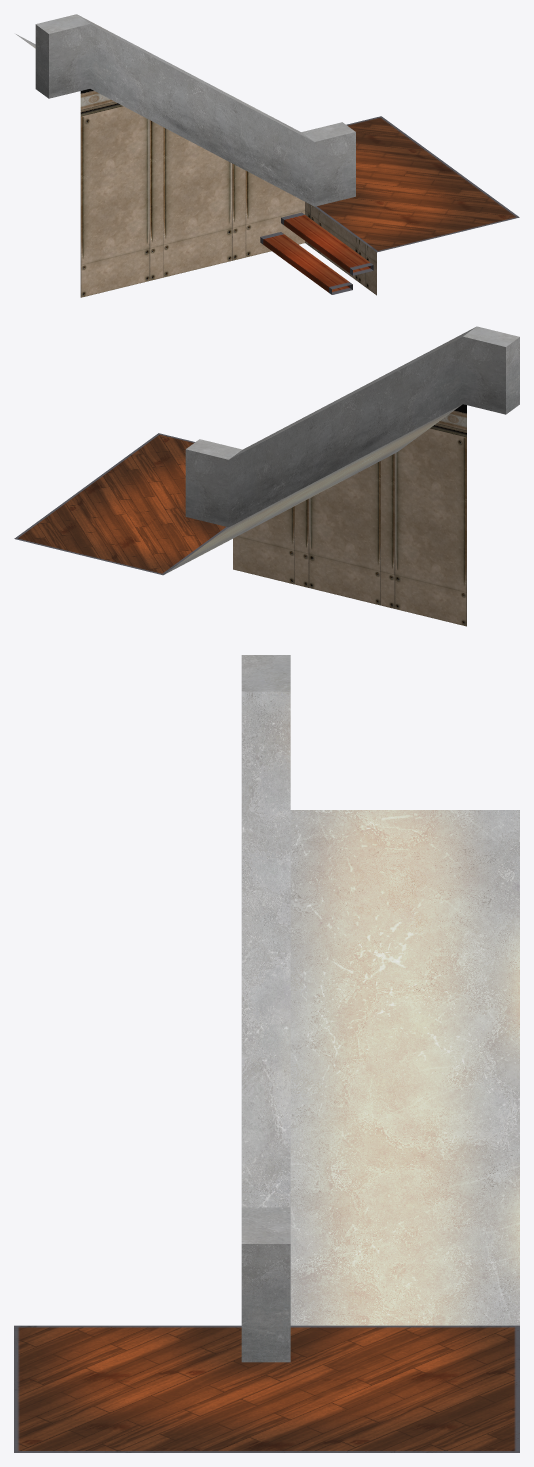
File: Stairs_02.glb
3 views of the same model, one above another, from view 1: azimuth 30°, elevation 25°; view 2: azimuth 150°, elevation 25°; view 3: azimuth 270°, elevation 25° (orthographic). The views are drawn at different scales.
Parts seen in each view (by area): view 1: Stairs_01_Floor, Stairs_01_Railing; view 2: Stairs_01_Floor, Stairs_01_Railing; view 3: Stairs_01_Floor, Stairs_01_Railing.
Part boxes in pixels (bbox=[...]): Stairs_01_Floor: bbox=[16, 34, 519, 297]; Stairs_01_Railing: bbox=[35, 14, 355, 206]; Stairs_01_Floor: bbox=[14, 404, 466, 626]; Stairs_01_Railing: bbox=[185, 326, 519, 527]; Stairs_01_Floor: bbox=[14, 810, 519, 1452]; Stairs_01_Railing: bbox=[241, 655, 290, 1362].
Bounding box in the file's own units: 9.9 × 6.5 × 5.81.
Materials: 2 (2 with a texture image).
